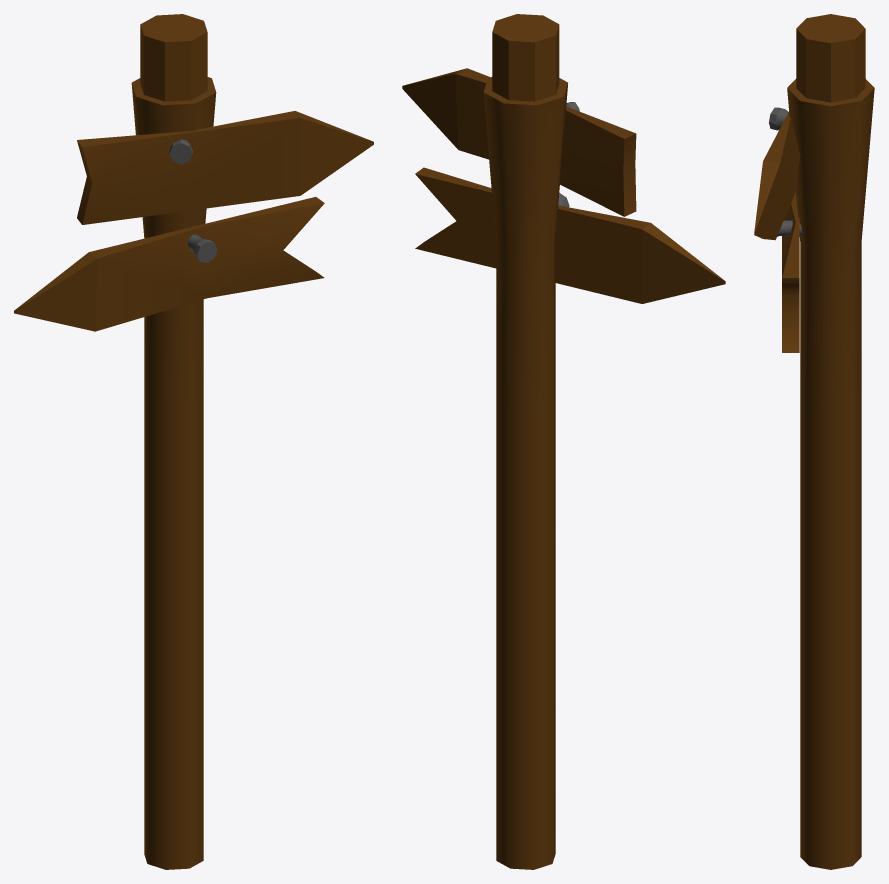
The model's file is low_poly_road_sign.glb.
3 views of the same model, side by side, from view 1: azimuth 30°, elevation 25°; view 2: azimuth 150°, elevation 25°; view 3: azimuth 270°, elevation 25° (orthographic).
Parts seen in each view (by area): view 1: Cylinder001, Box002, Box001; view 2: Cylinder001, Box001, Box002; view 3: Cylinder001, Box002, Box001, Cylinder003.
Part boxes in pixels (x1,y1,x2,y2): Cylinder001: [131, 14, 216, 869]; Box002: [77, 111, 373, 224]; Box001: [14, 197, 324, 331]; Cylinder001: [483, 14, 567, 869]; Box001: [415, 167, 725, 303]; Box002: [402, 68, 636, 216]; Cylinder001: [787, 14, 874, 869]; Box002: [754, 112, 800, 240]; Box001: [782, 192, 799, 352]; Cylinder003: [769, 107, 788, 130].
Bounding box in the file's own units: 60.28 × 140 × 18.43.
